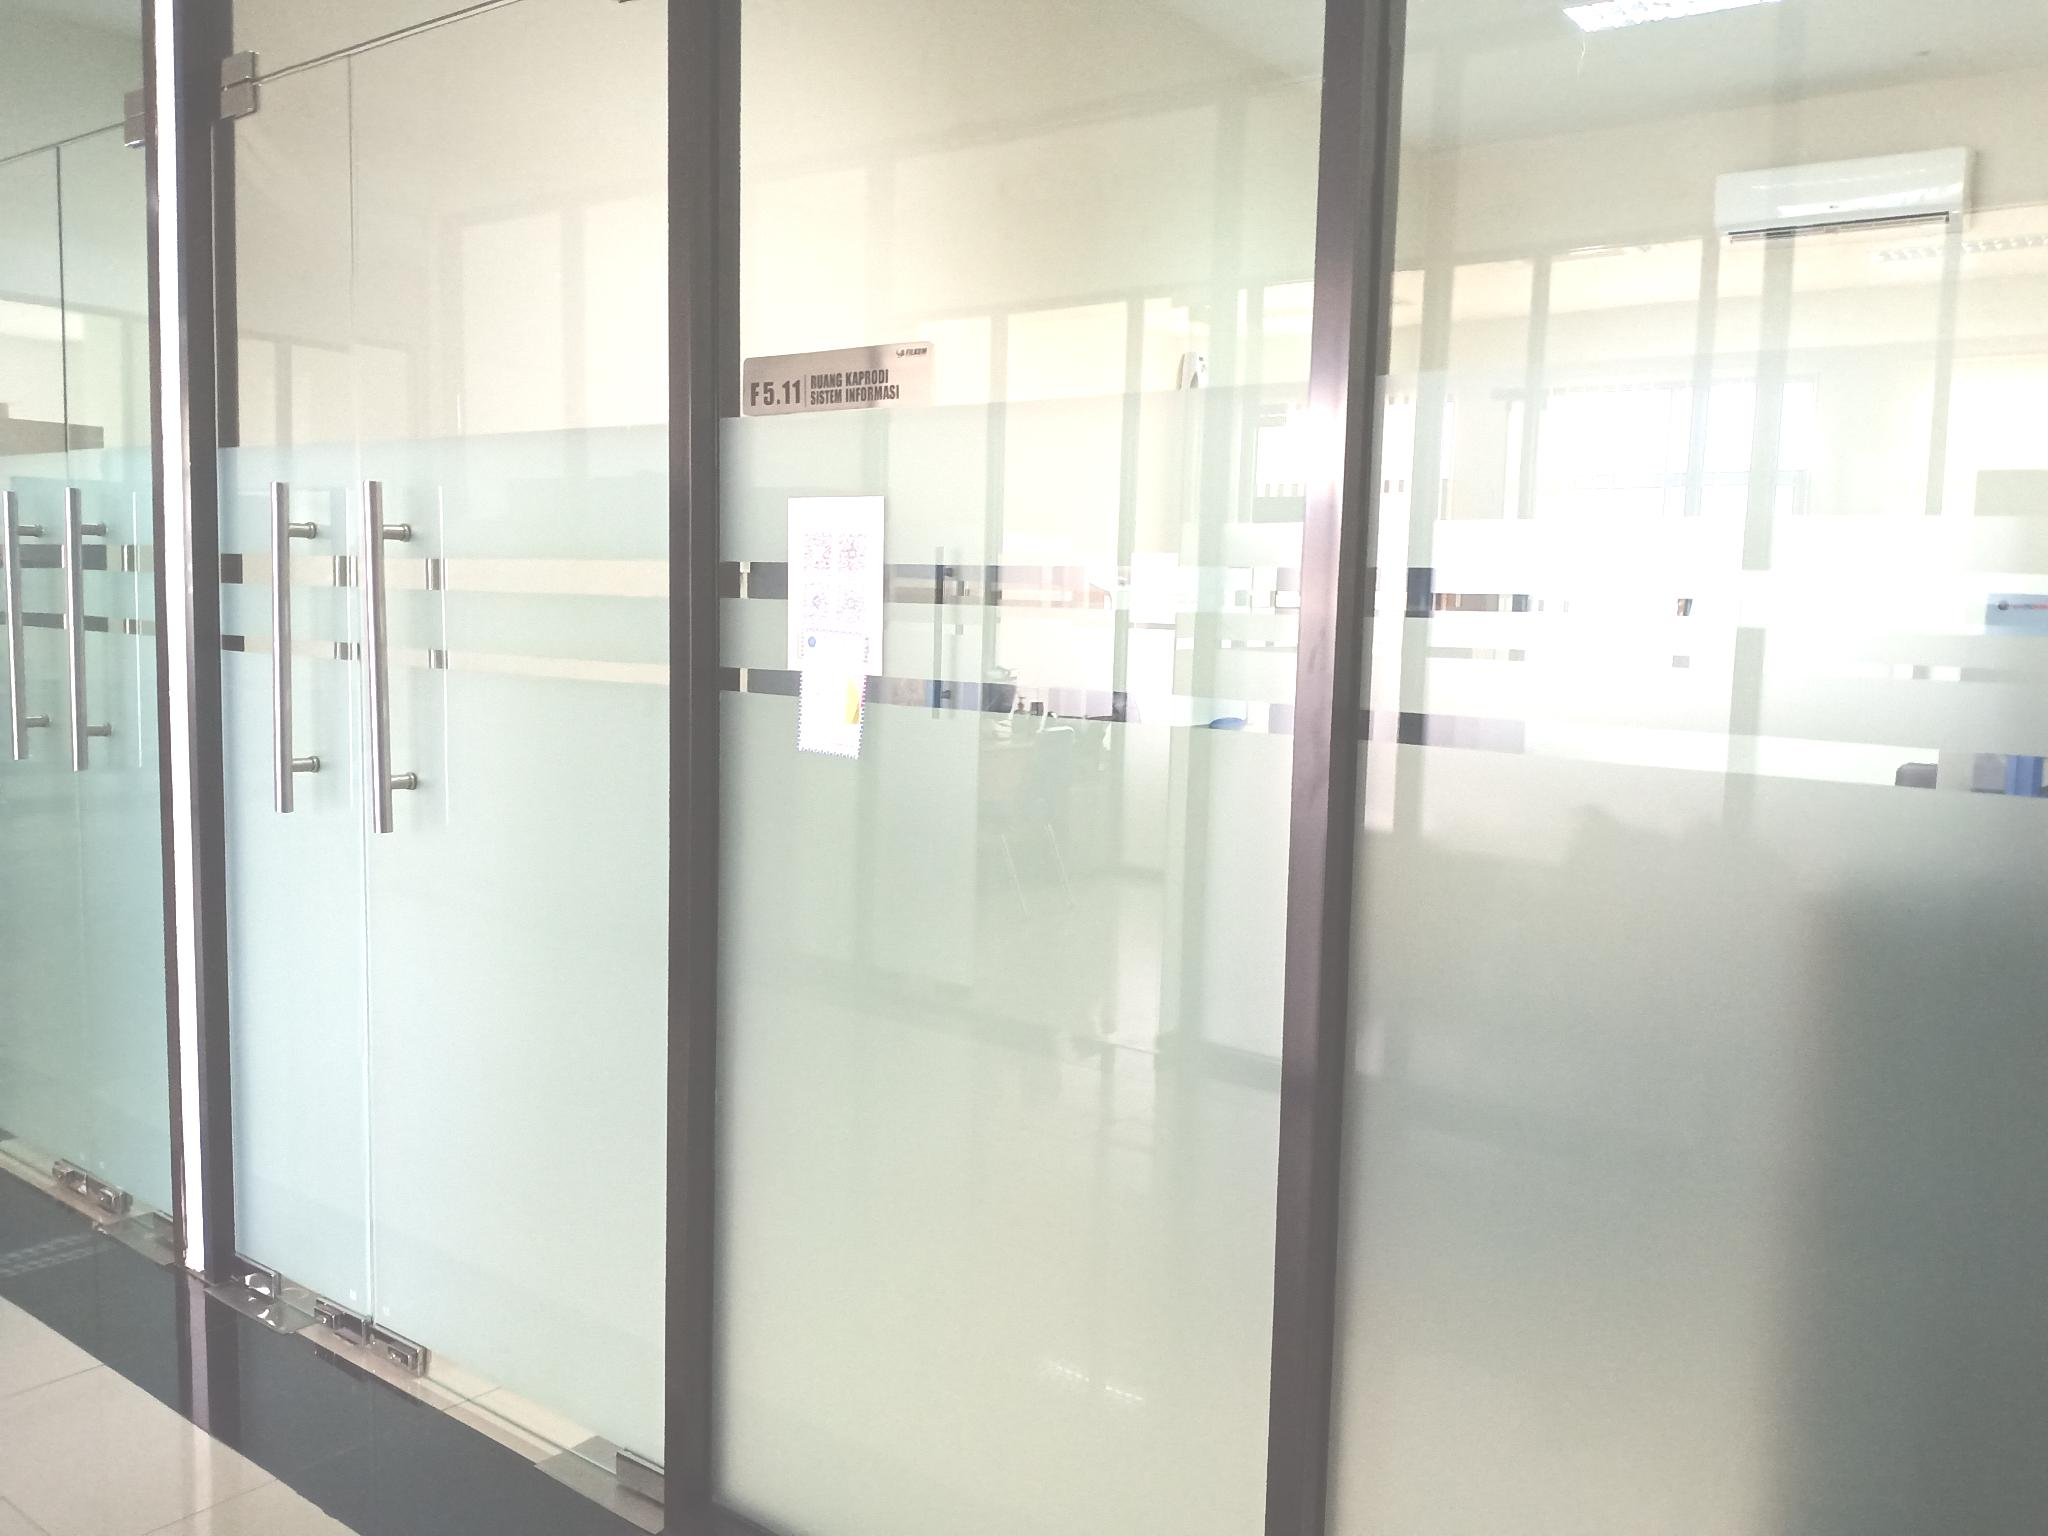plate: (742, 340, 935, 416)
